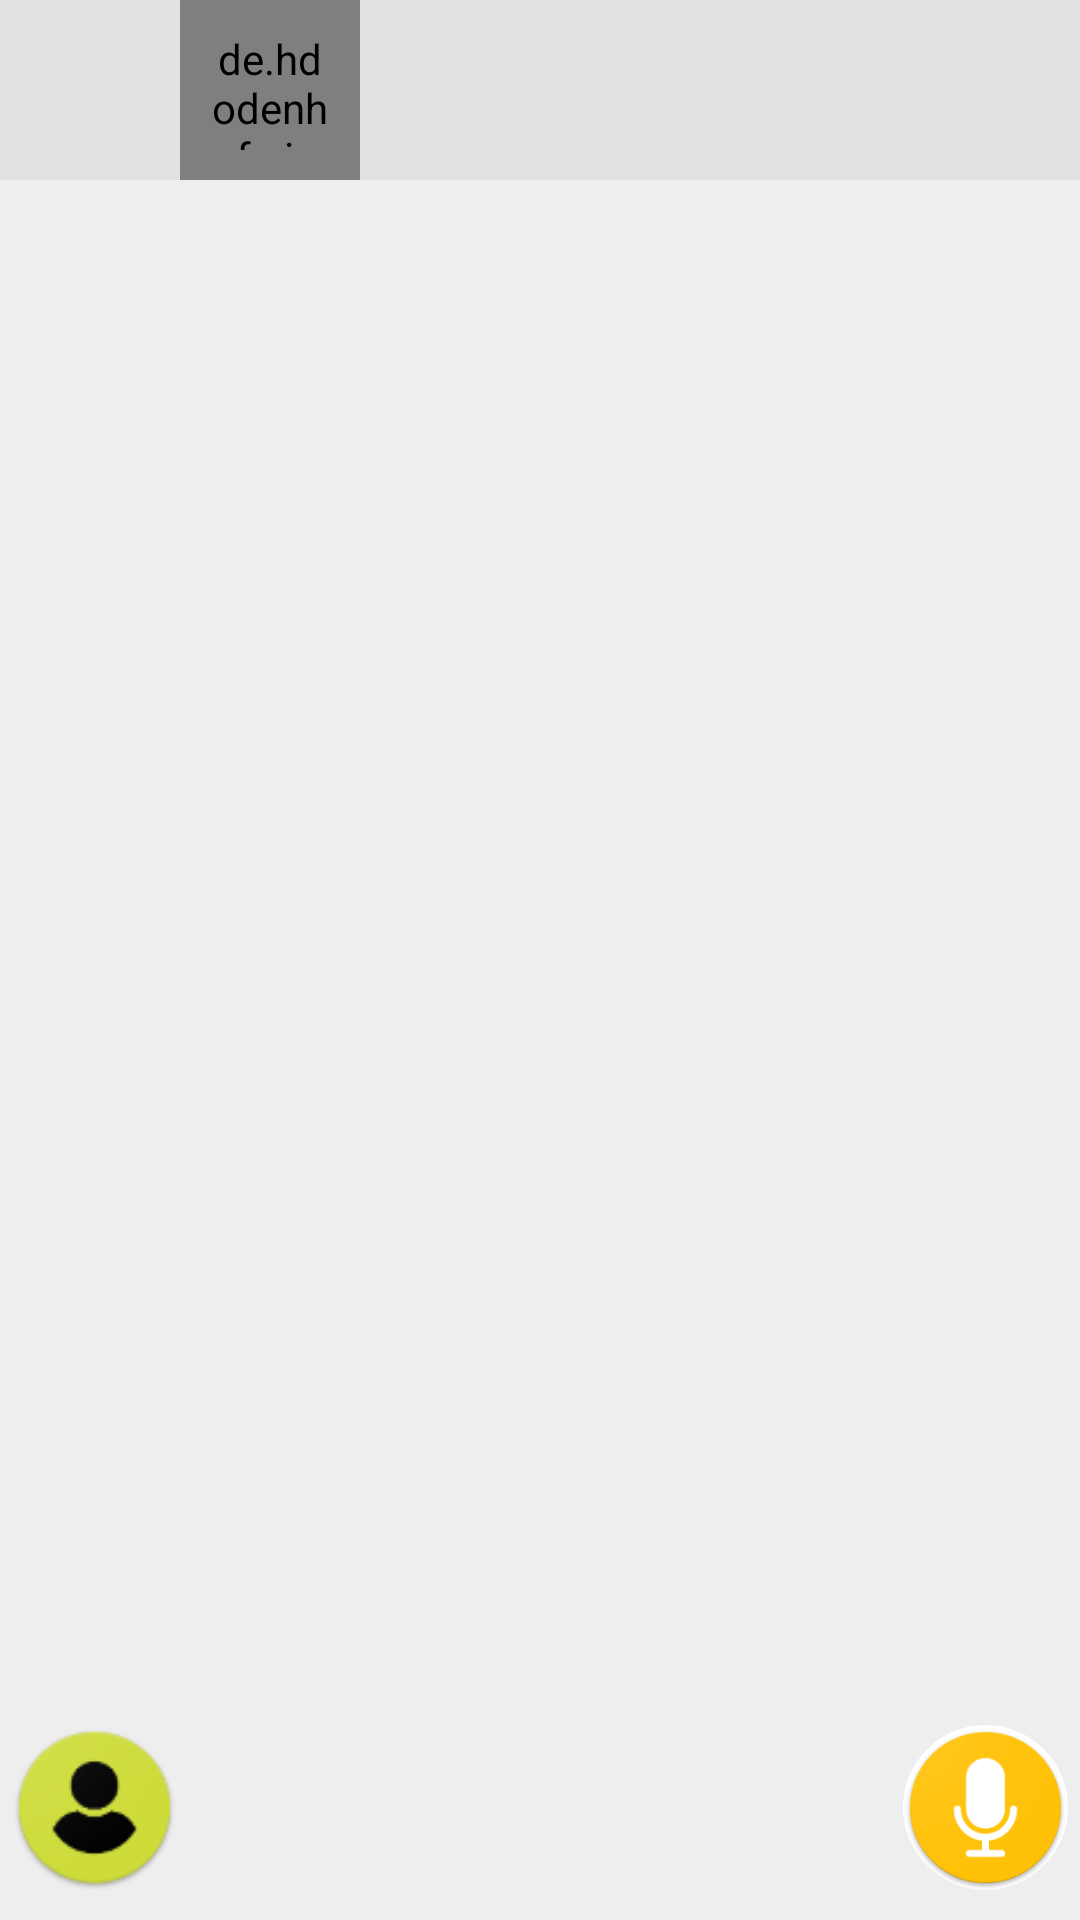

Screen size 1080w x 1920h. Icon name, then its center in pixels as (x,y):
microphone: (985,1808)
